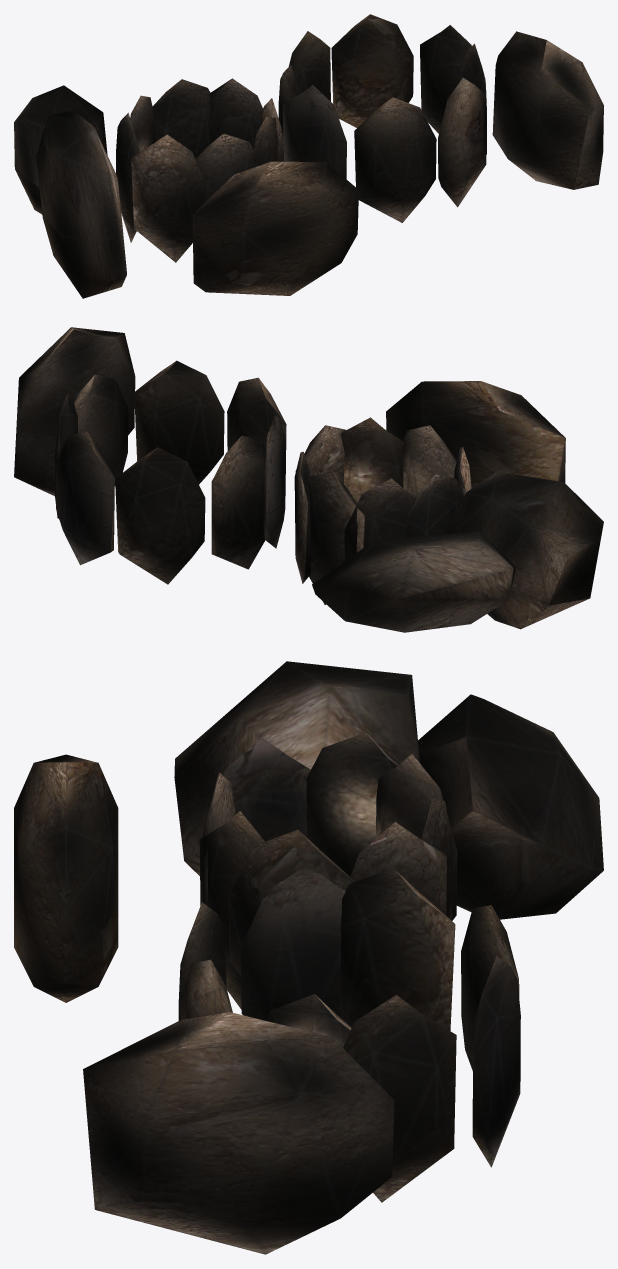
The model's file is rocks.obj.
3 views of the same model, one above another, from view 1: azimuth 30°, elevation 25°; view 2: azimuth 150°, elevation 25°; view 3: azimuth 270°, elevation 25° (orthographic). The views are drawn at different scales.
Visible parts, largest first — view 1: rock002, rock, rock001, rock011, rock010, rock018, rock013, rock015, rock003, rock014, rock005, rock019 (+8 smaller); view 2: rock003, rock001, rock002, rock, rock012, rock013, rock010, rock008, rock005, rock016, rock009, rock017 (+8 smaller); view 3: rock, rock003, rock002, rock001, rock008, rock014, rock015, rock006, rock010, rock018, rock007, rock016 (+8 smaller).
Boxes of the visible parts, x1,y1,x2,y2 form: rock002: (192, 161, 358, 295); rock: (492, 31, 603, 189); rock001: (36, 110, 126, 298); rock011: (354, 97, 436, 222); rock010: (331, 14, 413, 127); rock018: (131, 134, 207, 262); rock013: (438, 77, 486, 207); rock015: (282, 85, 346, 179); rock003: (14, 85, 107, 214); rock014: (420, 25, 471, 133); rock005: (152, 79, 210, 159); rock019: (210, 78, 262, 148); rock003: (312, 532, 515, 632); rock001: (447, 471, 603, 629); rock002: (386, 381, 565, 488); rock: (14, 327, 135, 496); rock012: (115, 447, 205, 584); rock013: (134, 360, 224, 484); rock010: (55, 431, 114, 565); rock008: (211, 435, 265, 569); rock005: (296, 471, 364, 604); rock016: (340, 417, 403, 503); rock009: (74, 374, 128, 485); rock017: (344, 478, 416, 560); rock: (83, 1012, 394, 1254); rock003: (418, 694, 603, 919); rock002: (14, 754, 118, 1002); rock001: (174, 661, 419, 875); rock008: (338, 868, 455, 1030); rock014: (343, 995, 456, 1202); rock015: (240, 864, 345, 1020); rock006: (306, 732, 399, 876); rock010: (472, 956, 520, 1167); rock018: (203, 737, 310, 841); rock007: (228, 830, 354, 975); rock016: (199, 811, 264, 1009).
Size of the model in its own units: 59.49 by 16.4 by 36.18.
